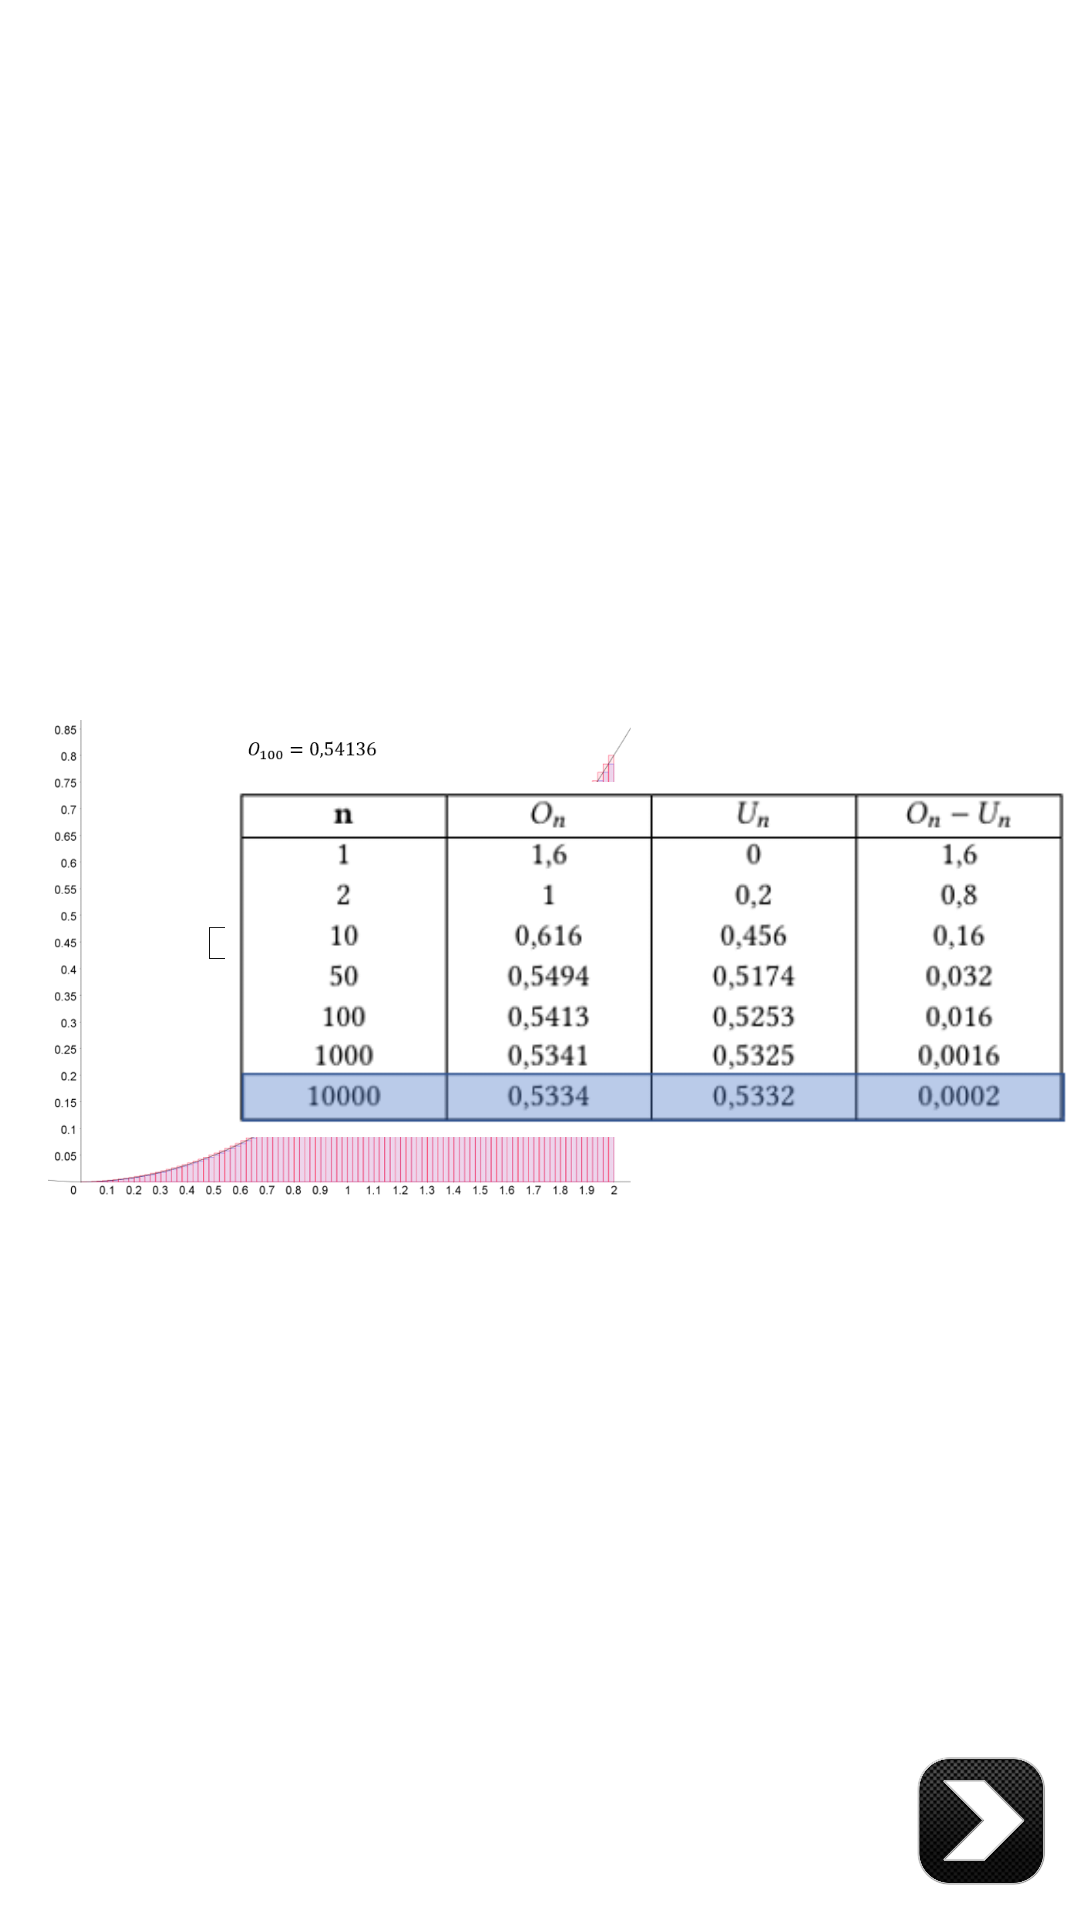

Icon click points for this 1080w x 1920h phone screenshot, format (x=x, y=y):
nextbutton: (x=981, y=1821)
